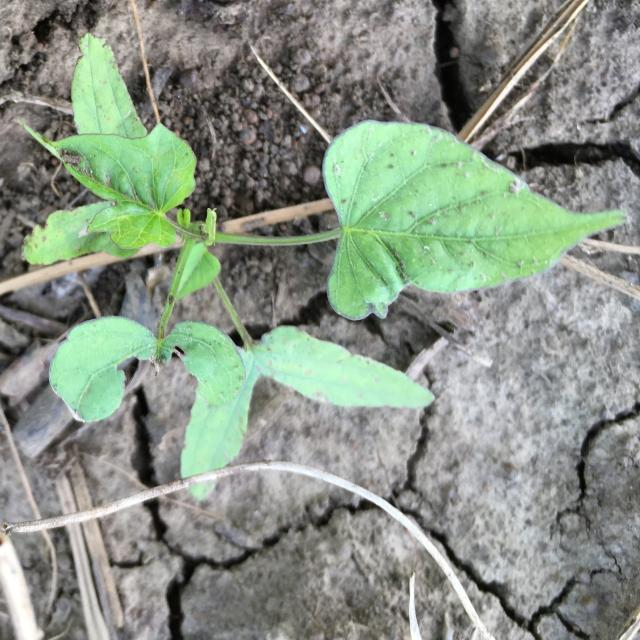MorningGlory: (21, 31, 633, 501)
